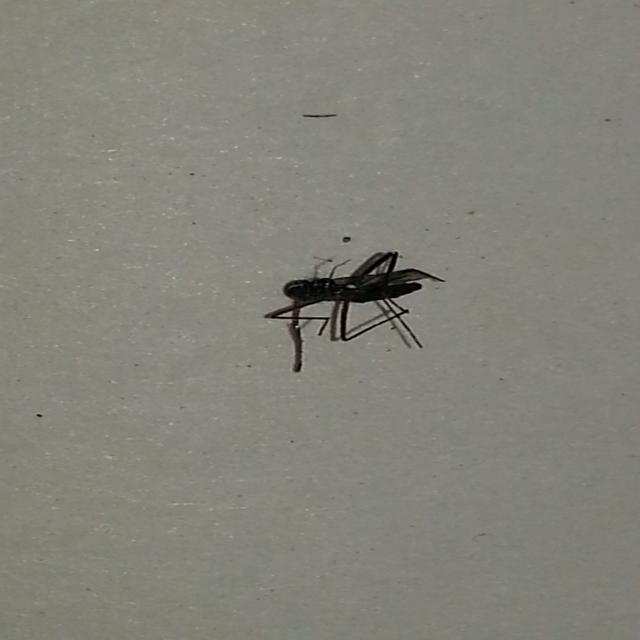albopictus: (252, 224, 451, 372)
